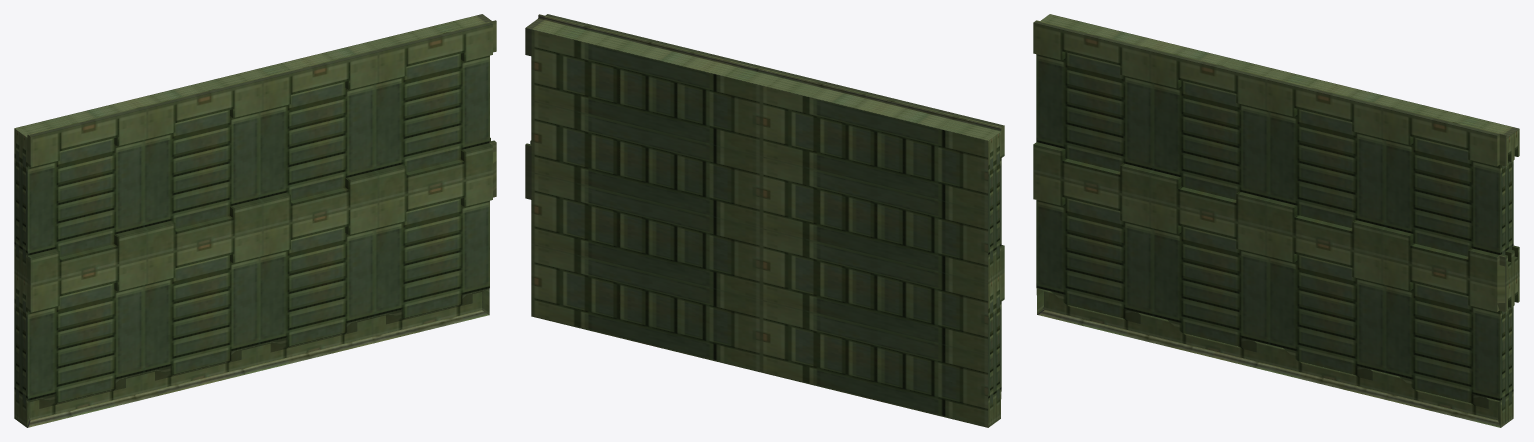
Rendered from concrete_wall01.fbx.
3 renders of one model, left to right at view 1: azimuth 30°, elevation 25°; view 2: azimuth 150°, elevation 25°; view 3: azimuth 330°, elevation 25°, orthographic.
Parts seen in each view (by area): view 1: Cube; view 2: Cube; view 3: Cube.
Boxes of the visible parts, box(x1,y1,x2,y2) form: Cube: box(14, 14, 496, 427); Cube: box(525, 14, 1004, 427); Cube: box(1033, 14, 1519, 427).
Bounding box in the file's own units: 4051 × 2429 × 248.
Materials: 1 (1 with a texture image).
